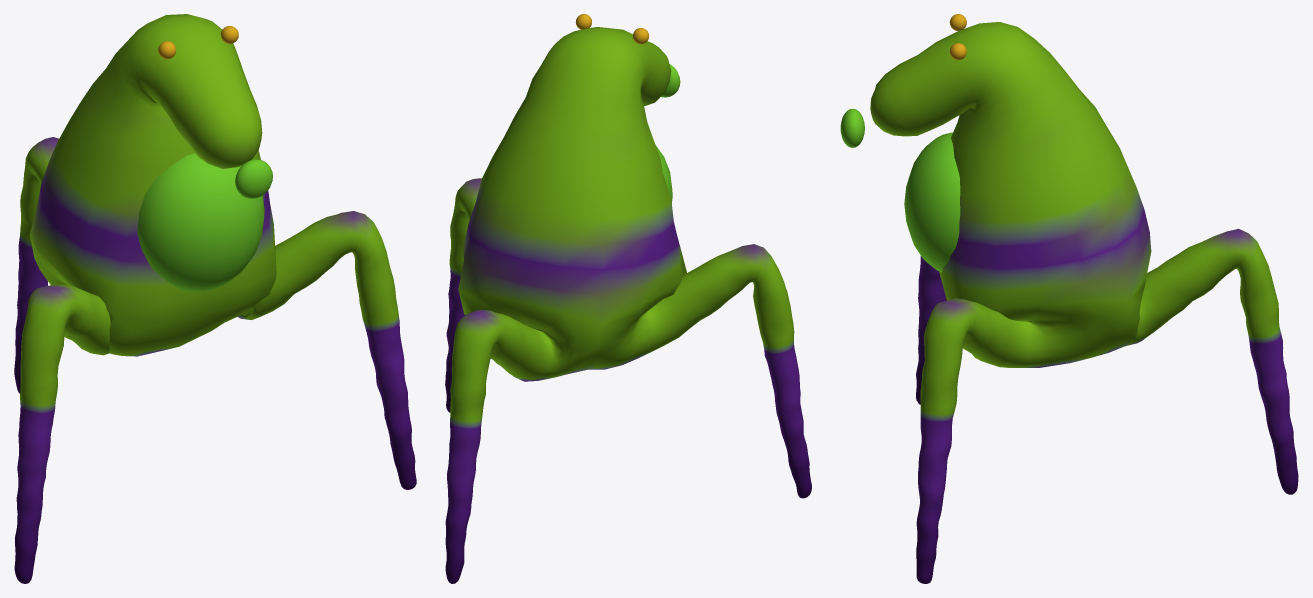
Rendered from Enemy_Spitter.fbx.
3 renders of one model, left to right at view 1: azimuth 30°, elevation 25°; view 2: azimuth 150°, elevation 25°; view 3: azimuth 270°, elevation 25°, orthographic. The views are drawn at different scales.
Visible parts, largest first — view 1: Enemy_Spitter; view 2: Enemy_Spitter; view 3: Enemy_Spitter.
Part boxes in pixels (bbox=[...]): Enemy_Spitter: bbox=[14, 14, 416, 583]; Enemy_Spitter: bbox=[445, 14, 811, 583]; Enemy_Spitter: bbox=[840, 14, 1298, 583].
Size of the model in its own units: 1.79 by 2.09 by 1.87.
